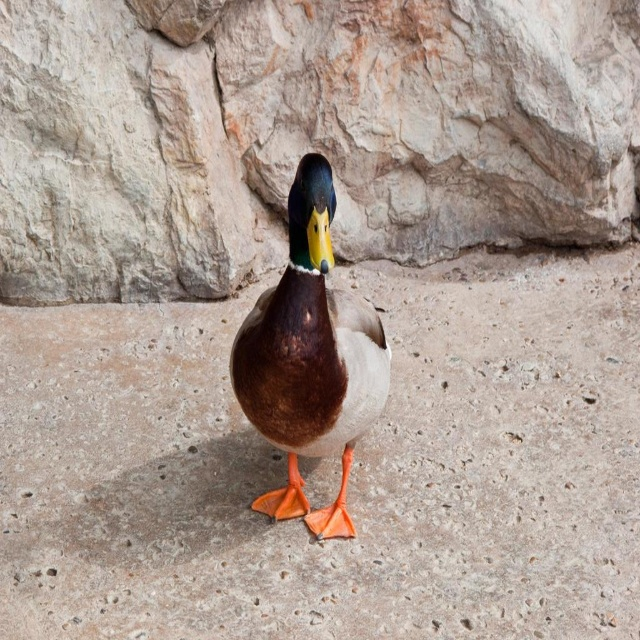Duck: (222, 174, 402, 550)
